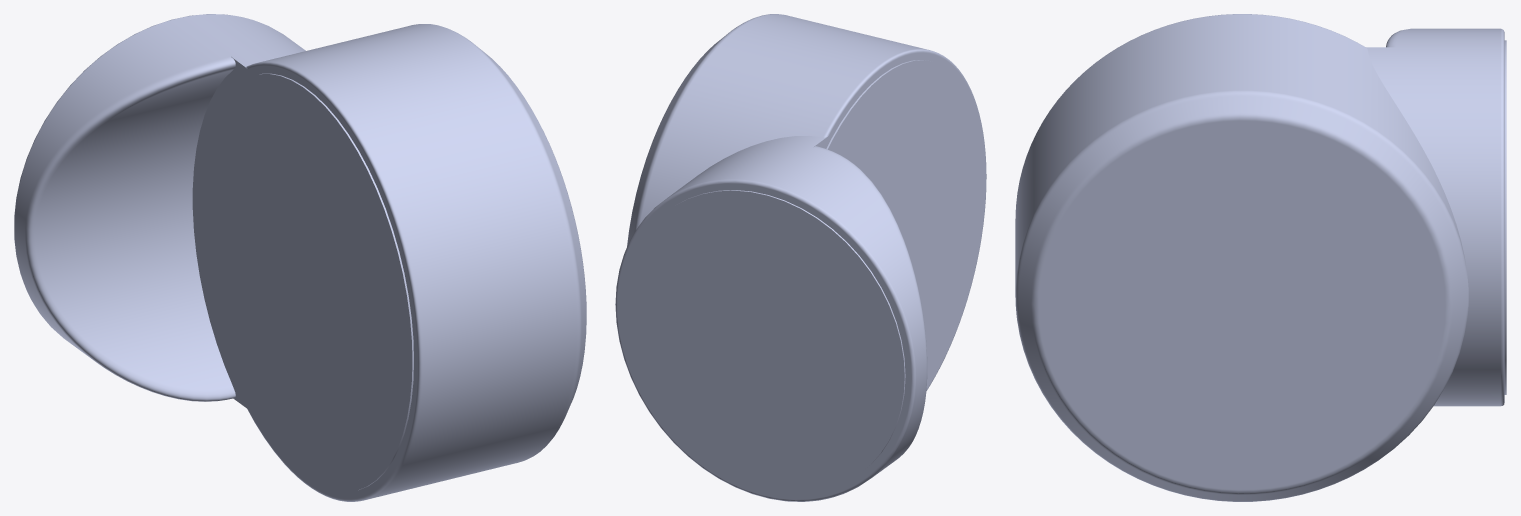
File: Link_Arm_1.obj
3 renders of one model, left to right at view 1: azimuth 30°, elevation 25°; view 2: azimuth 150°, elevation 25°; view 3: azimuth 270°, elevation 25°, orthographic. The views are drawn at different scales.
Visible parts, largest first — view 1: Body1; view 2: Body1; view 3: Body1.
Boxes of the visible parts, x1,y1,x2,y2 form: Body1: [14, 14, 586, 501]; Body1: [615, 14, 986, 501]; Body1: [1015, 14, 1506, 501].
Size of the model in its own units: 10.5 by 12 by 13.
